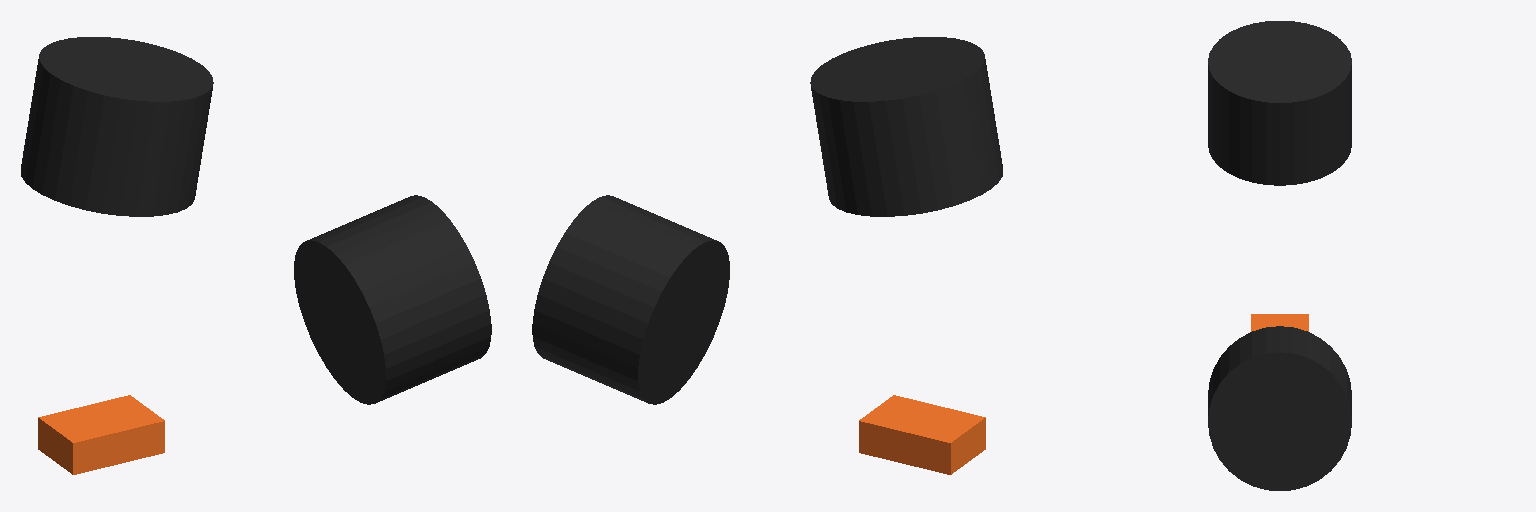
The robot description file, URDF, robot "cartographer_backpack_3d":
<!--
  Copyright 2016 The Cartographer Authors

  Licensed under the Apache License, Version 2.0 (the "License");
  you may not use this file except in compliance with the License.
  You may obtain a copy of the License at

       http://www.apache.org/licenses/LICENSE-2.0

  Unless required by applicable law or agreed to in writing, software
  distributed under the License is distributed on an "AS IS" BASIS,
  WITHOUT WARRANTIES OR CONDITIONS OF ANY KIND, either express or implied.
  See the License for the specific language governing permissions and
  limitations under the License.

  p3at realsense and px4 links:
	lidar link: camera_depth_optical_frame
	imu link: base_link
-->

<robot name="cartographer_backpack_3d">
  <material name="orange">
    <color rgba="1.0 0.5 0.2 1" />
  </material>
  <material name="gray">
    <color rgba="0.2 0.2 0.2 1" />
  </material>

  <link name="imu_link">
    <visual>
      <origin xyz="0.0 0.0 0.0" />
      <geometry>
        <box size="0.06 0.04 0.02" />
      </geometry>
      <material name="orange" />
    </visual>
  </link>

  <link name="camera_depth_optical_frame">
    <visual>
      <origin xyz="0.0 0.0 0.0" />
      <geometry>
        <cylinder length="0.07" radius="0.05" />
      </geometry>
      <material name="gray" />
    </visual>
  </link>

  <link name="vertical_vlp16_link">
    <visual>
      <origin xyz="0.0 0.0 0.0" />
      <geometry>
        <cylinder length="0.07" radius="0.05" />
      </geometry>
      <material name="gray" />
    </visual>
  </link>

  <link name="base_link" />

  <joint name="imu_link_joint" type="fixed">
    <parent link="base_link" />
    <child link="imu_link" />
    <origin xyz="0 0 0" rpy="3.1416 0 0" />
  </joint>

  <joint name="camera_depth_optical_frame_joint" type="fixed">
    <parent link="base_link" />
    <child link="camera_depth_optical_frame" />
    <origin xyz="0.01 0. 0.19" rpy="0. -0.1745 3.1416" />
  </joint>

  <joint name="vertical_vlp16_link_joint" type="fixed">
    <parent link="base_link" />
    <child link="vertical_vlp16_link" />
    <origin xyz="0.19 0. 0.04" rpy="0. 1.3963 0." />
  </joint>
</robot>

--- What the picture shows (computed from the rendered views, not written in the file) ---
Views: 3 orthographic renders of the robot side by side, from view 1: azimuth 30°, elevation 25°; view 2: azimuth 150°, elevation 25°; view 3: azimuth 270°, elevation 25°.
Model cartographer_backpack_3d with 4 links and 3 joints (3 fixed), rooted at base_link, posed all joints at 0.
Links seen in each view (by area): view 1: vertical_vlp16_link, camera_depth_optical_frame, imu_link; view 2: vertical_vlp16_link, camera_depth_optical_frame, imu_link; view 3: camera_depth_optical_frame, vertical_vlp16_link, imu_link.
Boxes of the visible links, x1=… form: vertical_vlp16_link: x1=294, y1=195, x2=491, y2=404; camera_depth_optical_frame: x1=21, y1=37, x2=213, y2=216; imu_link: x1=38, y1=395, x2=164, y2=474; vertical_vlp16_link: x1=532, y1=195, x2=729, y2=404; camera_depth_optical_frame: x1=810, y1=37, x2=1002, y2=216; imu_link: x1=859, y1=395, x2=985, y2=474; camera_depth_optical_frame: x1=1208, y1=21, x2=1351, y2=185; vertical_vlp16_link: x1=1208, y1=326, x2=1351, y2=490; imu_link: x1=1251, y1=314, x2=1308, y2=331.
Size in the robot's own frame: 0.2785 by 0.1 by 0.2485 metres.
Geometry: primitives only (box / cylinder / sphere), no mesh files.